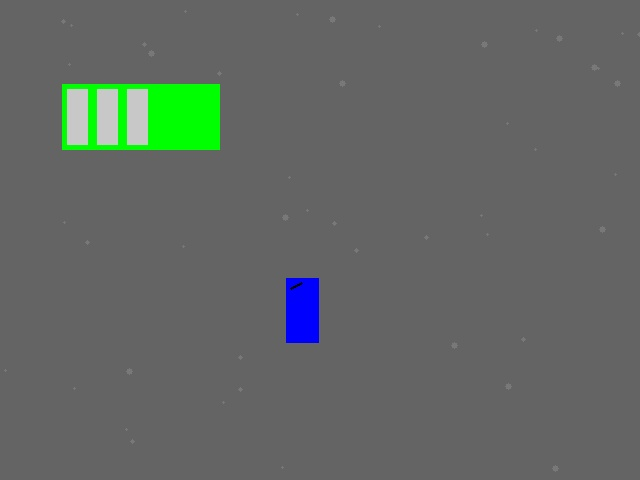bus: (62, 84, 219, 149)
motorcycle: (286, 278, 318, 342)
